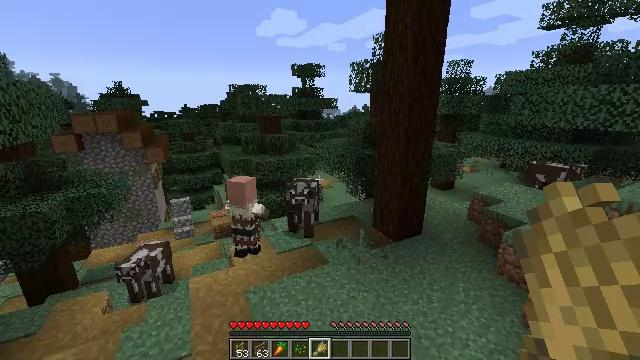cow: (115, 241, 174, 299), (528, 159, 586, 197), (286, 176, 322, 236)
